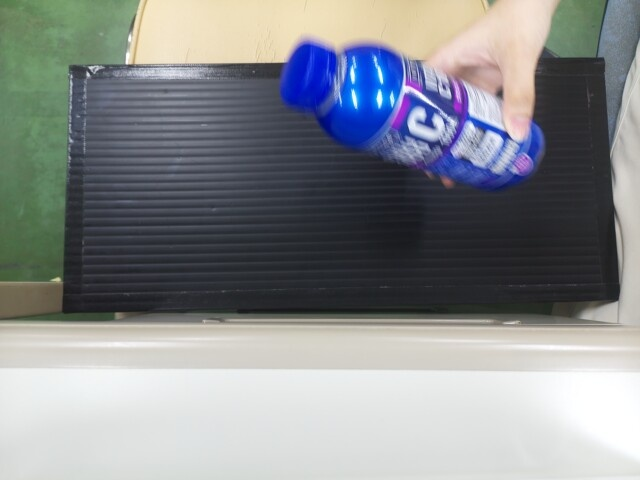plastic_bottle: (277, 41, 507, 185)
